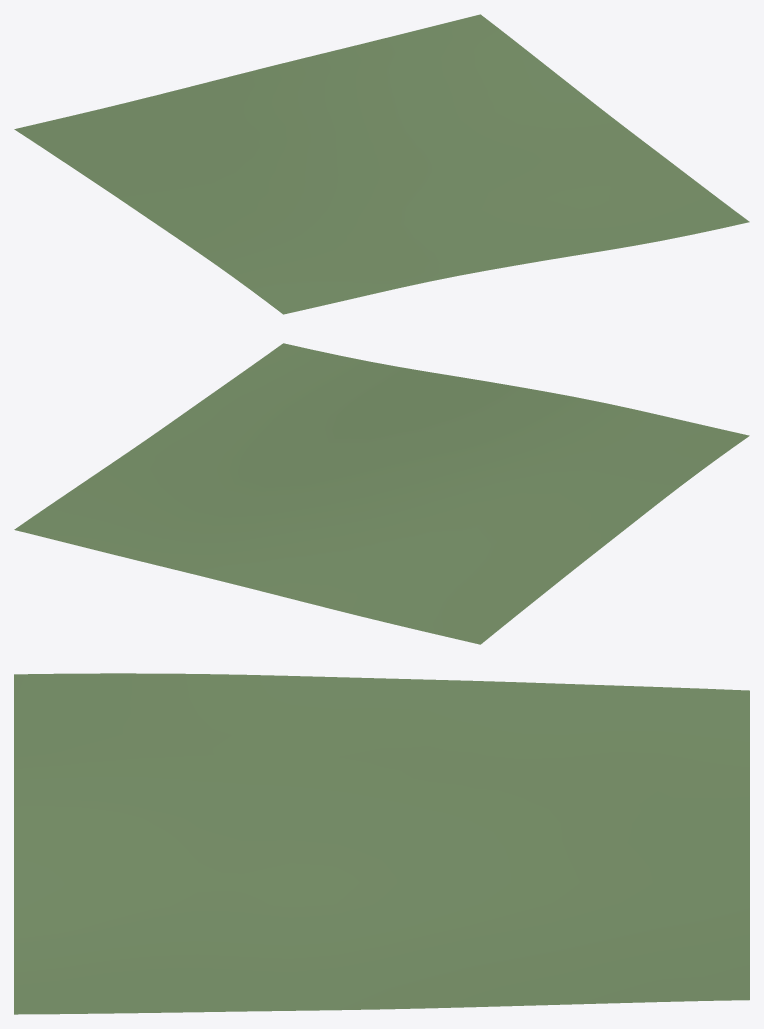
Rendered from floor_001_chunk_x-03_z+11_collision.glb.
3 views of the same model, one above another, from view 1: azimuth 30°, elevation 25°; view 2: azimuth 150°, elevation 25°; view 3: azimuth 270°, elevation 25° (orthographic). The views are drawn at different scales.
Visible parts, largest first — view 1: floor_001_chunk_x-03_z+11_collision; view 2: floor_001_chunk_x-03_z+11_collision; view 3: floor_001_chunk_x-03_z+11_collision.
Boxes of the visible parts, <box> form: floor_001_chunk_x-03_z+11_collision: <box>14,14,749,314</box>; floor_001_chunk_x-03_z+11_collision: <box>14,343,749,644</box>; floor_001_chunk_x-03_z+11_collision: <box>14,673,749,1014</box>.
Bounding box in the file's own units: 256 × 11.52 × 256.
